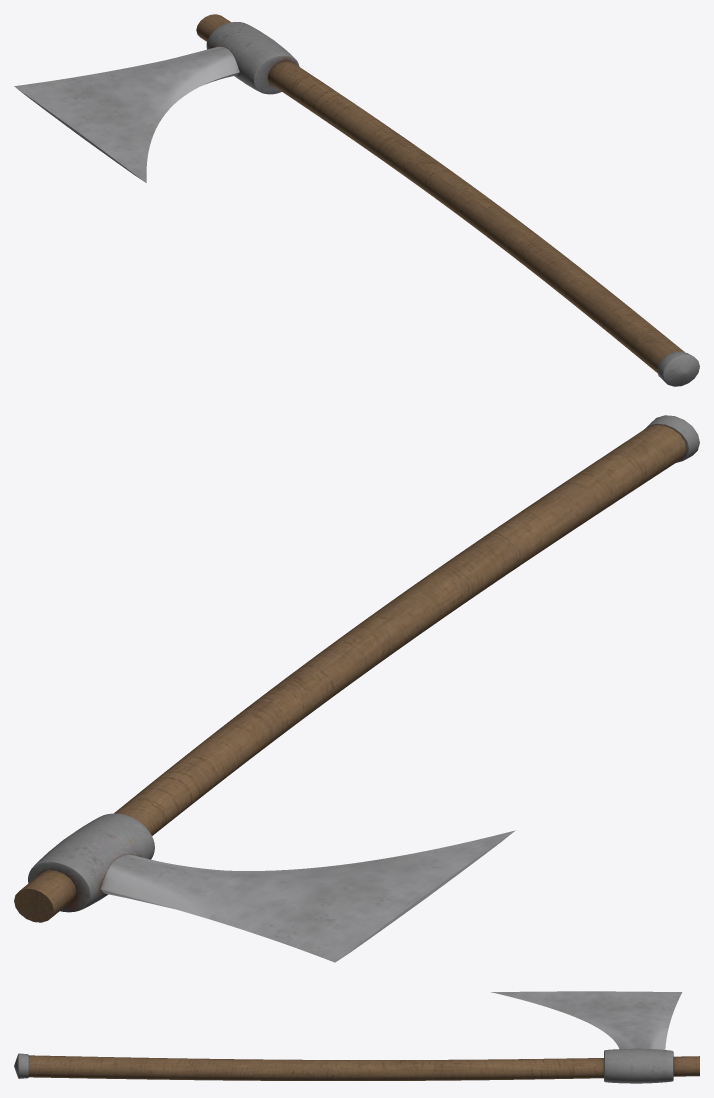
File: armenian_axe.glb
3 renders of one model, top to bottom at view 1: azimuth 30°, elevation 25°; view 2: azimuth 150°, elevation 25°; view 3: azimuth 270°, elevation 25°, orthographic. The views are drawn at different scales.
Parts seen in each view (by area): view 1: armenian_axe; view 2: armenian_axe; view 3: armenian_axe.
Boxes of the visible parts, <box> form: armenian_axe: <box>14,14,699,386</box>; armenian_axe: <box>14,415,699,962</box>; armenian_axe: <box>14,991,699,1083</box>.
Bounding box in the file's own units: 0.227 × 0.0378 × 0.785.
1 material, 1 textured.
